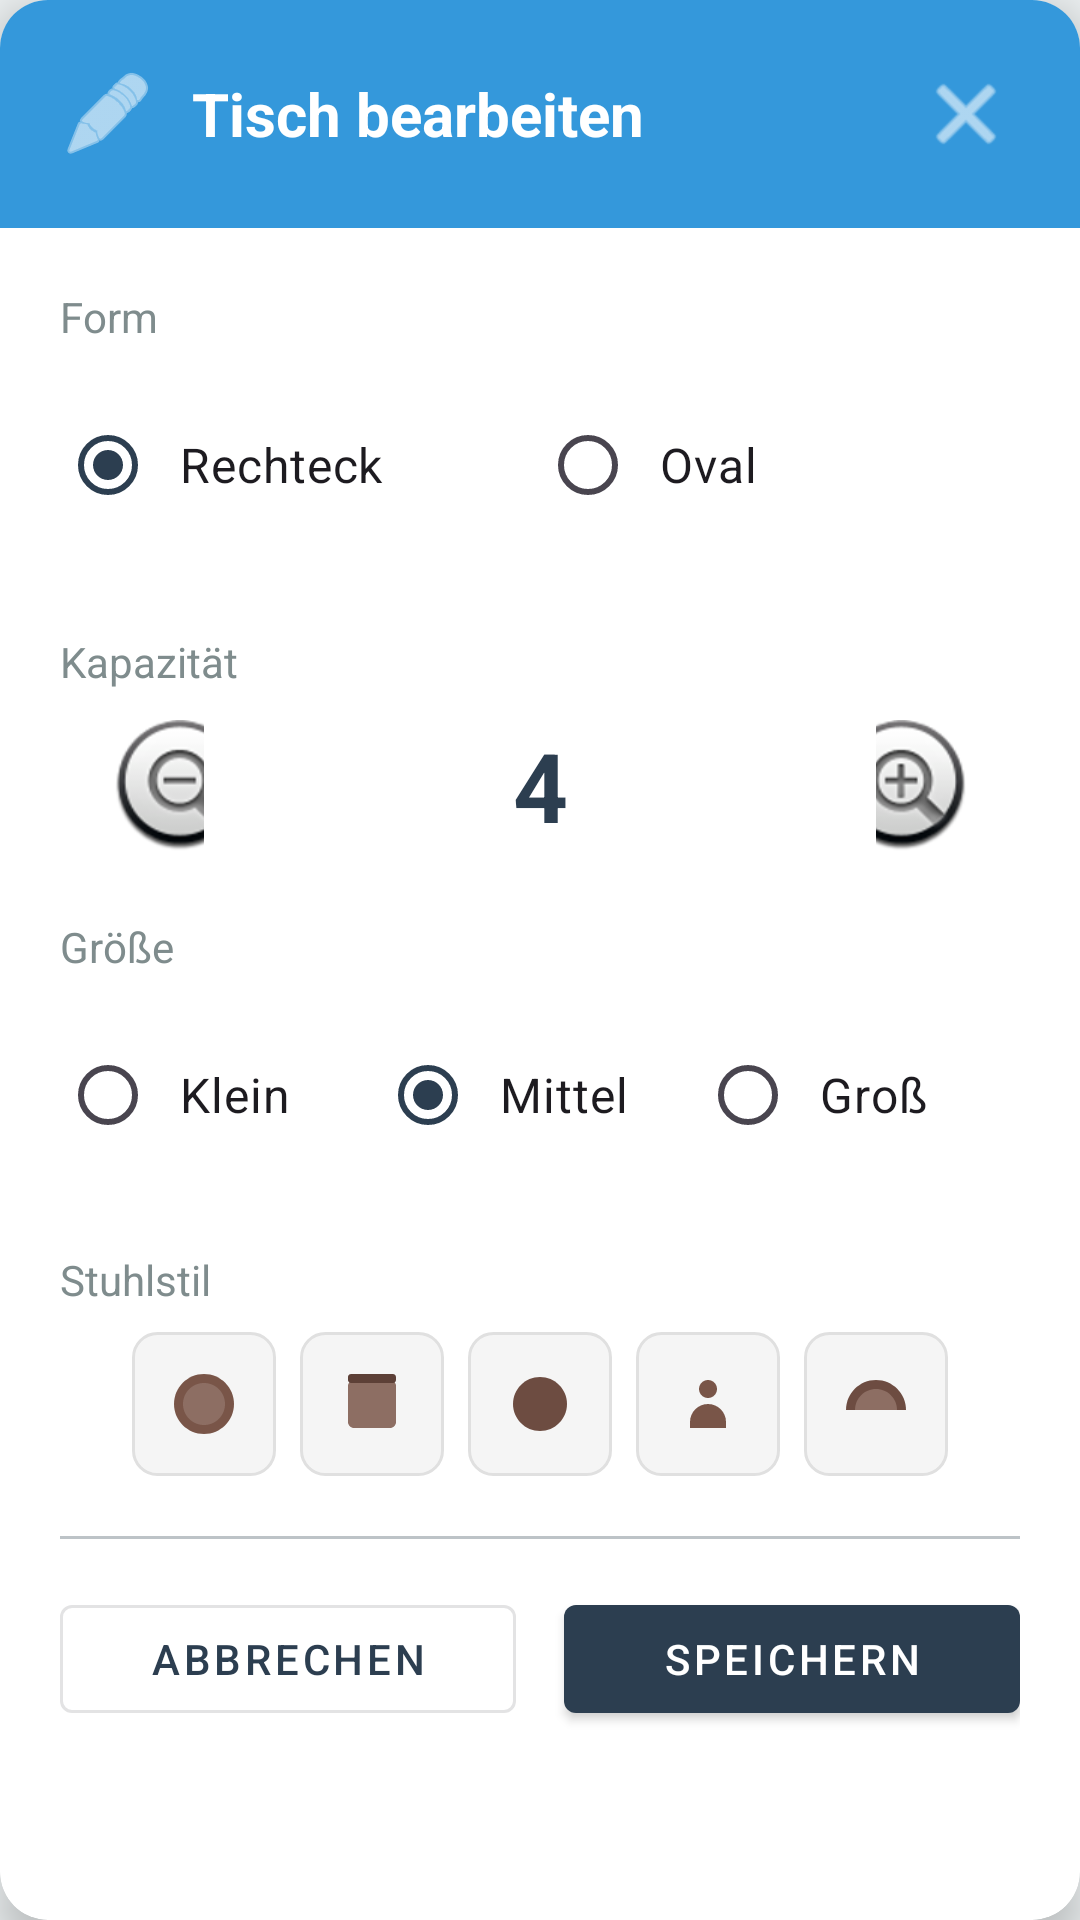

Icons on this 1080px x 1920px Android screen, each with its box as [x1, y1, x2, y2]:
Bogen: [804, 1332, 948, 1476]
Close: [936, 84, 996, 144]
Edit: [67, 73, 148, 154]
Einfach: [468, 1332, 612, 1476]
Oben: [300, 1332, 444, 1476]
Person: [636, 1332, 780, 1476]
Rund: [132, 1332, 276, 1476]
